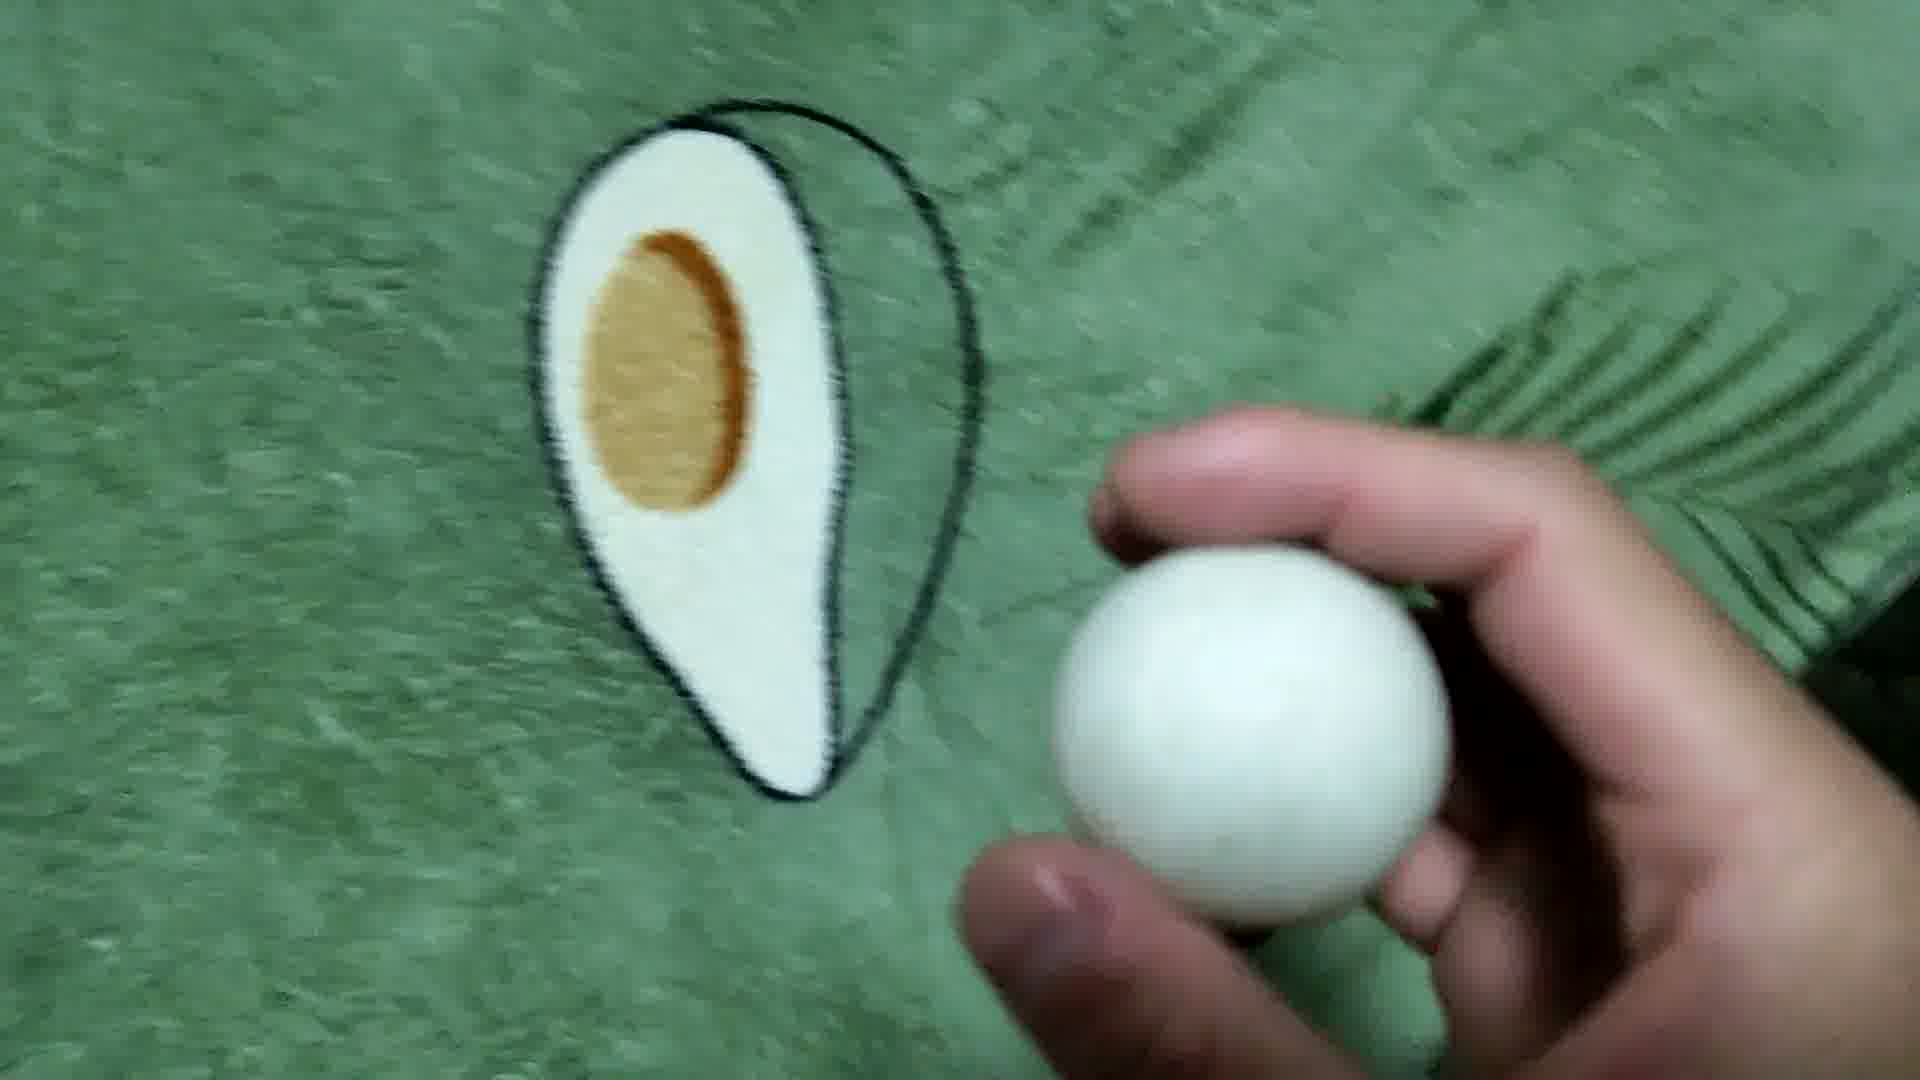Ball: (1056, 542, 1456, 935)
